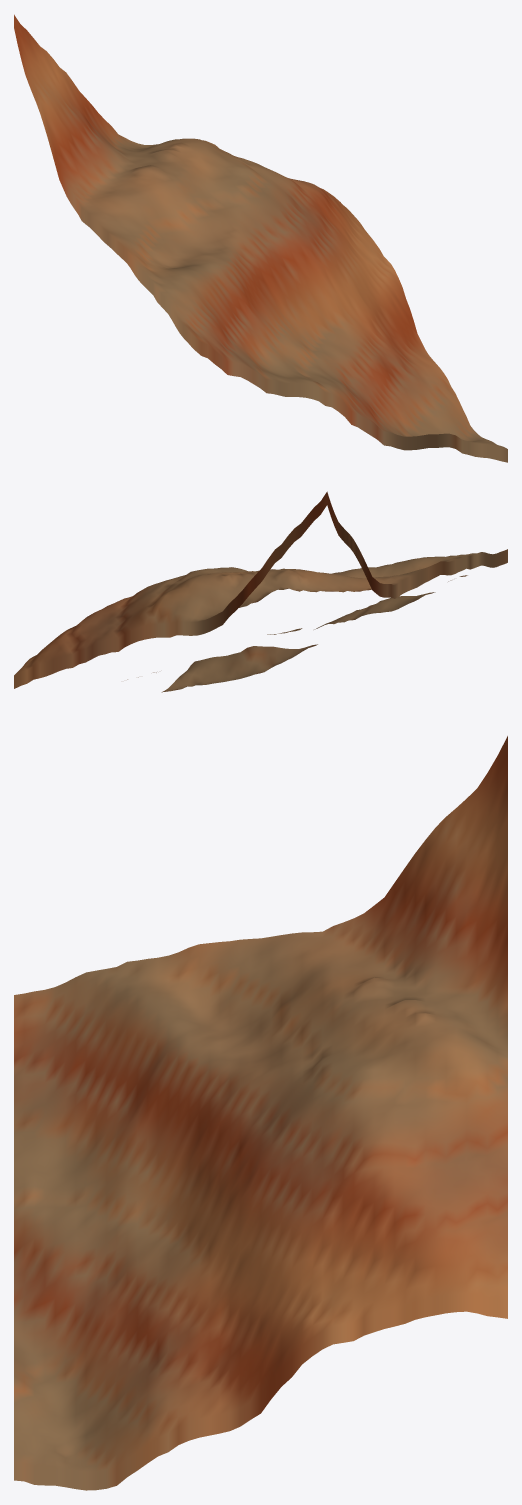
The model's file is terrain-014.glb.
The picture shows the model from 3 angles, top to bottom: view 1: azimuth 30°, elevation 25°; view 2: azimuth 150°, elevation 25°; view 3: azimuth 270°, elevation 25°; orthographic projection. The views are drawn at different scales.
Visible parts, largest first — view 1: terrain-014; view 2: terrain-014; view 3: terrain-014.
Part boxes in pixels (x1,y1,x2,y2): terrain-014: [14, 14, 507, 462]; terrain-014: [14, 491, 507, 692]; terrain-014: [14, 736, 507, 1490].
Size of the model in its own units: 96 by 117 by 96.
